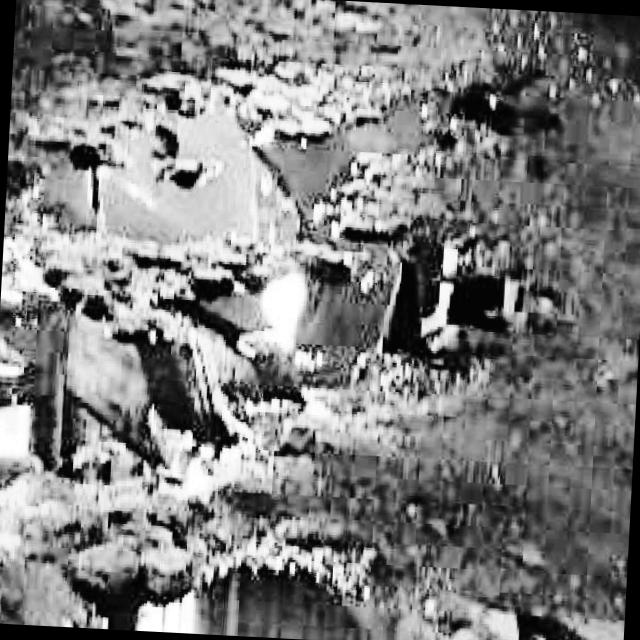Pothole: (0, 37, 569, 530), (53, 533, 623, 640)
